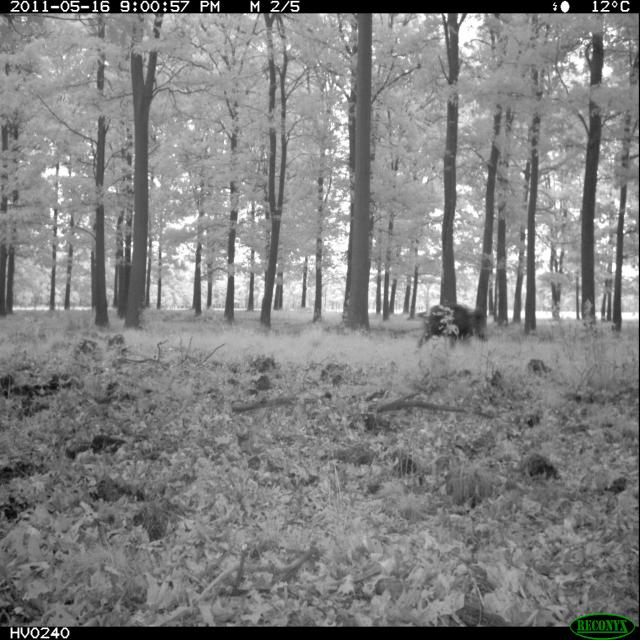boar: (412, 256, 494, 370), (514, 422, 571, 499)
